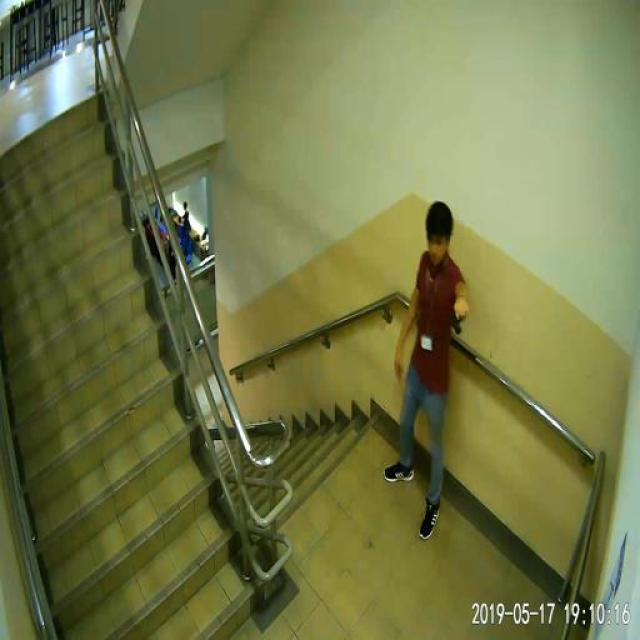Gun: (442, 296, 474, 344)
